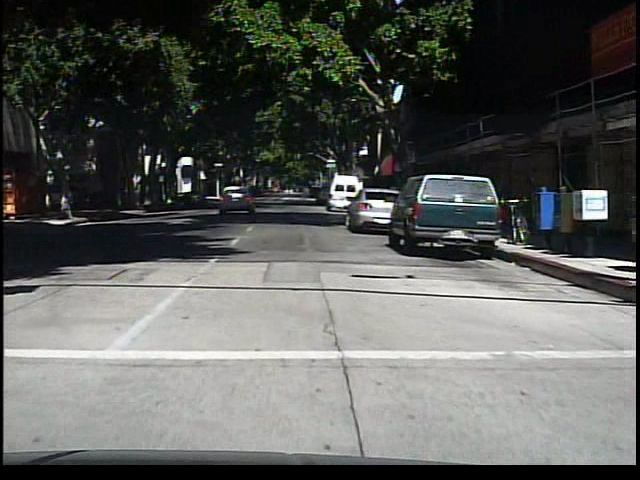person: (56, 178, 73, 220), (294, 179, 313, 206)
